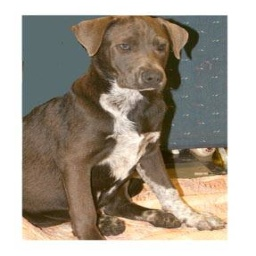dog: (22, 16, 226, 238)
